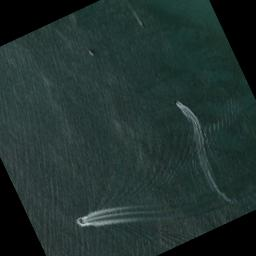boat: (87, 48, 93, 56), (75, 218, 83, 224), (140, 22, 143, 28), (175, 100, 179, 104)
